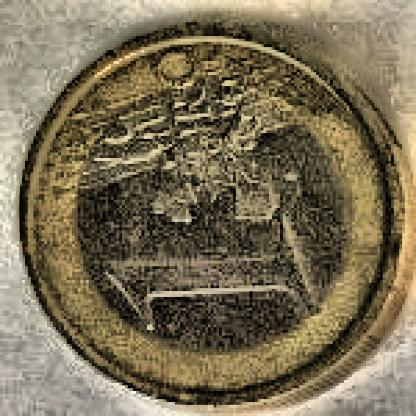coin: (20, 25, 416, 415)
